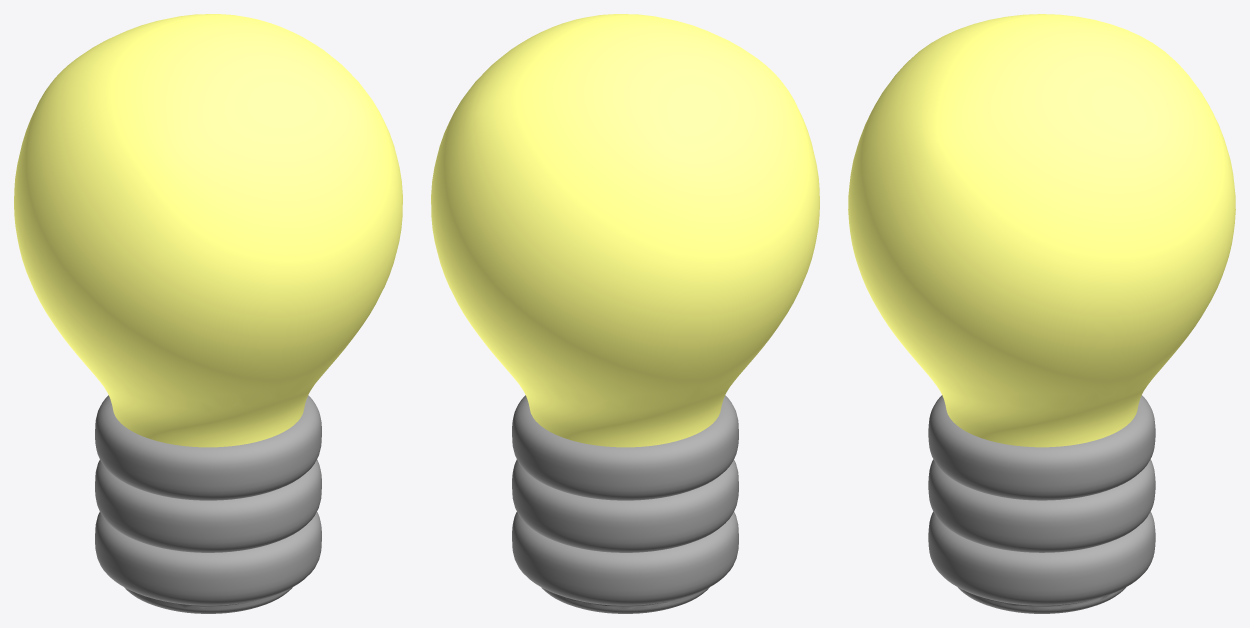
Rendered from bulb.glb.
3 views of the same model, side by side, from view 1: azimuth 30°, elevation 25°; view 2: azimuth 150°, elevation 25°; view 3: azimuth 270°, elevation 25° (orthographic).
Visible parts, largest first — view 1: Torus.004; view 2: Torus.004; view 3: Torus.004.
Part boxes in pixels (x1,y1,x2,y2): Torus.004: (14,14,402,613); Torus.004: (431,14,819,613); Torus.004: (848,14,1235,613).
Bounding box in the file's own units: 1.25 × 1.96 × 1.25.
